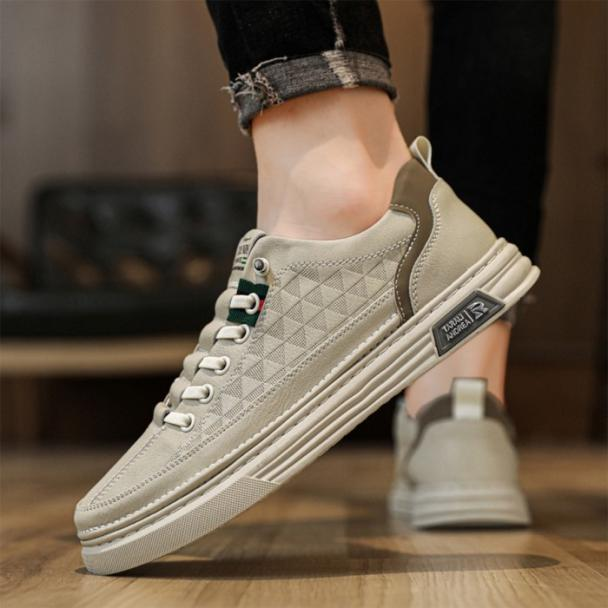Sepatu: (74, 152, 546, 575)
